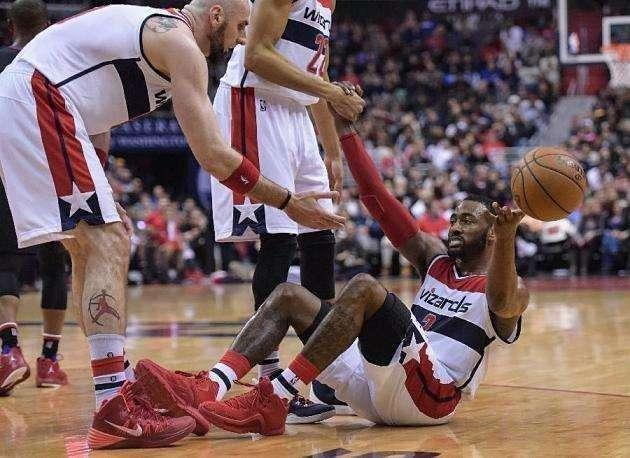bending: (129, 70, 545, 445), (1, 1, 335, 448)
up: (207, 1, 366, 423)
